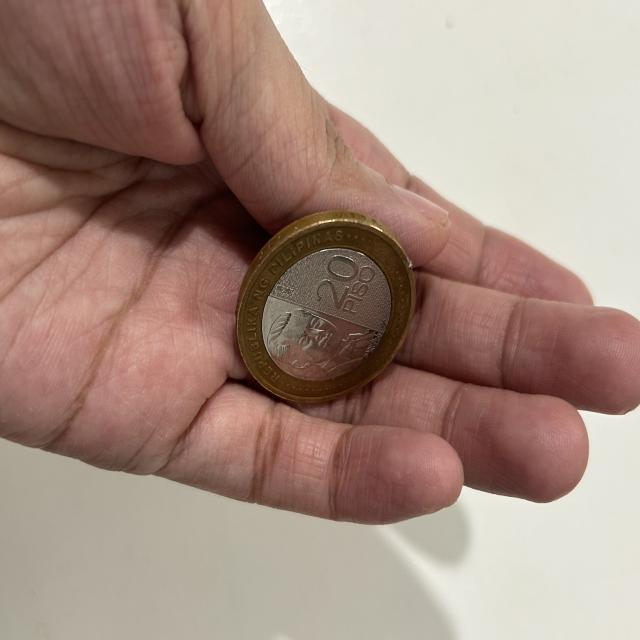20_New_Front: (316, 243, 372, 320)
